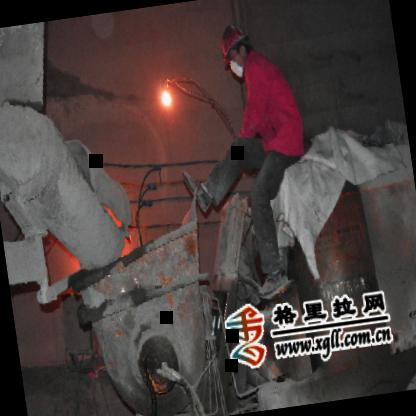helmet: (214, 19, 257, 84)
